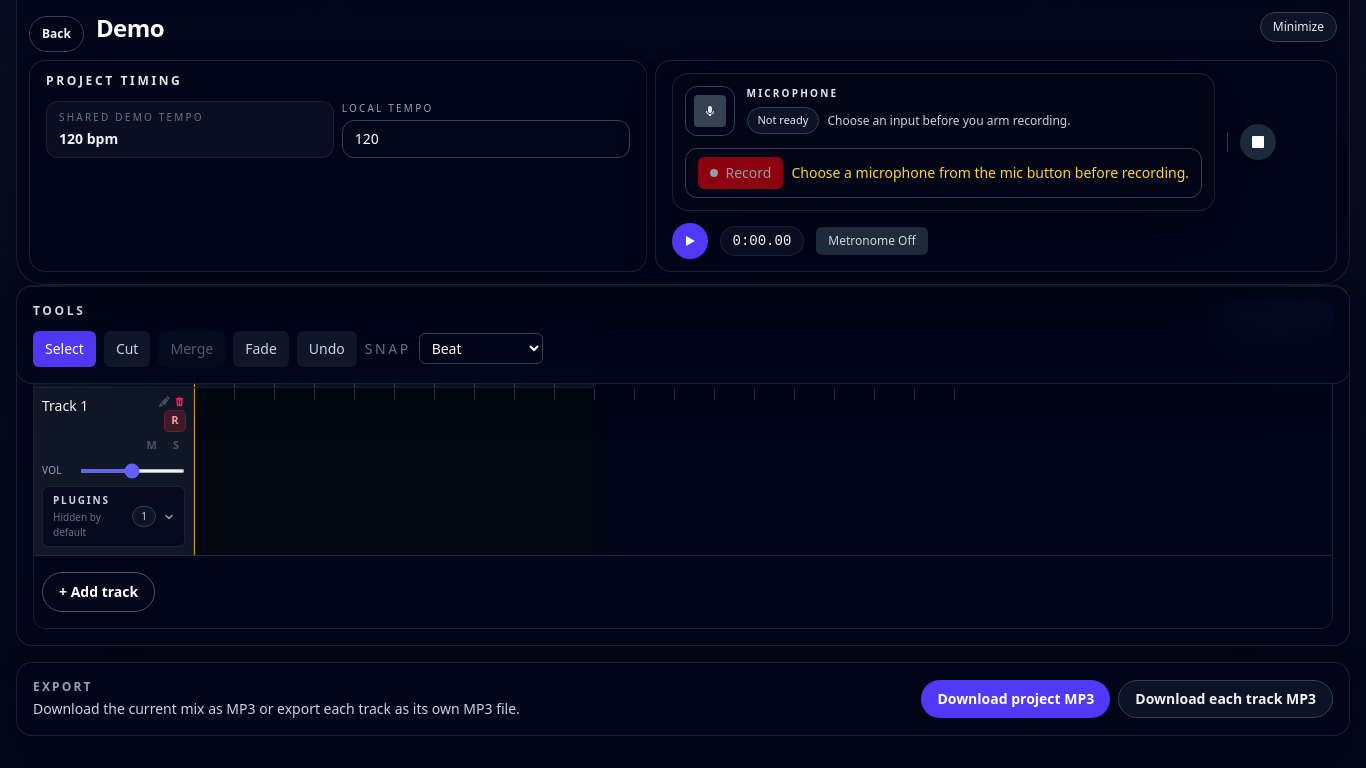
Scenario: DemoDawClient recording regression › reflects collaborator plugin edits through the reducer and playback engine
(page scrolled)
Click the button with aria-label "Show plugins on Track 1": click(114, 516) [42,486,185,547]
(page scrolled)
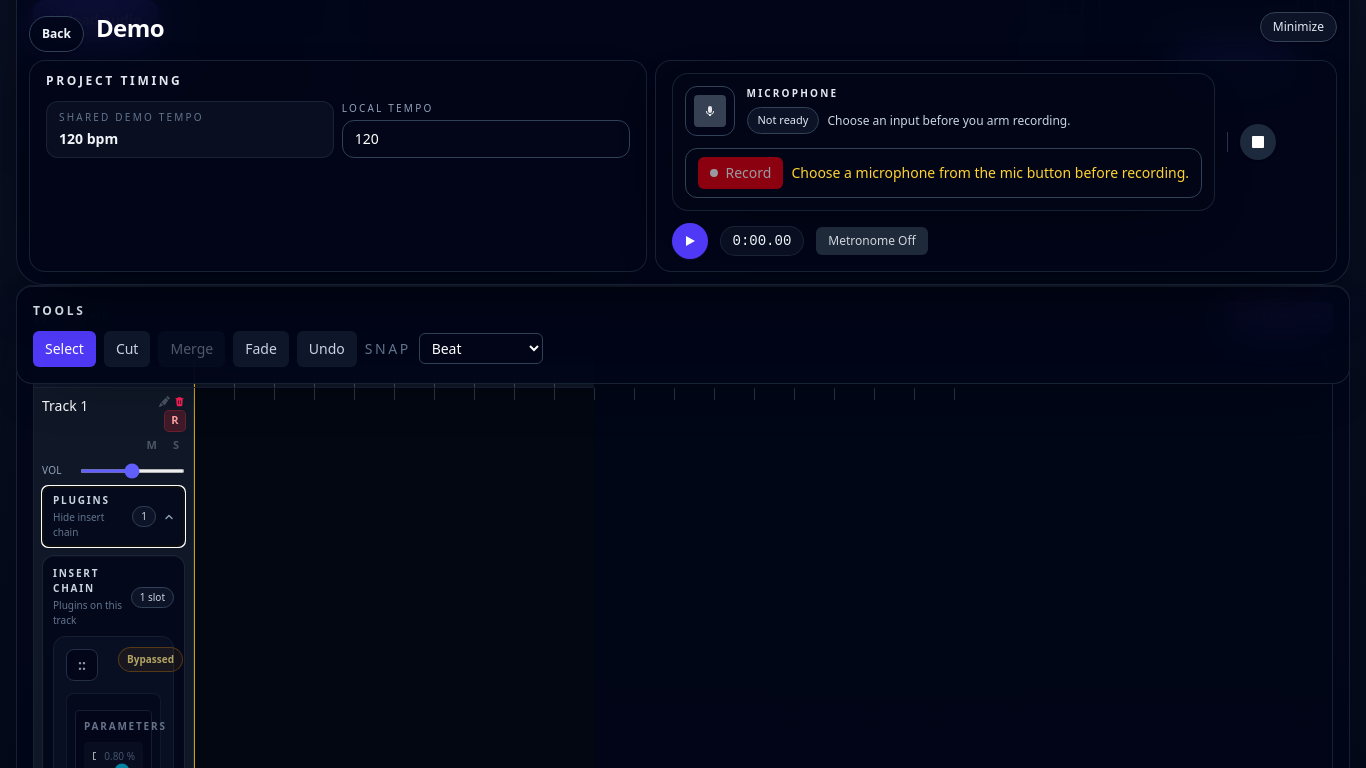
Now the text "Bypassed" is shown, box [118,647,183,672]
